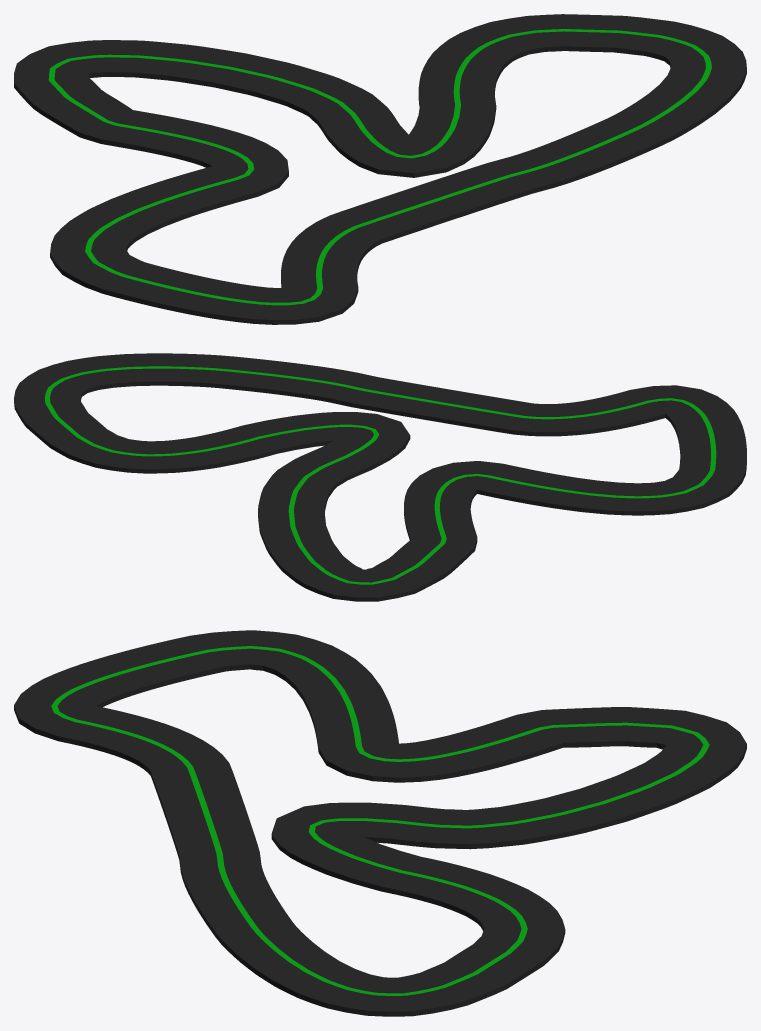
The model's file is Zold_palya_001.dae.
3 renders of one model, top to bottom at view 1: azimuth 30°, elevation 25°; view 2: azimuth 150°, elevation 25°; view 3: azimuth 270°, elevation 25°, orthographic. The views are drawn at different scales.
Visible parts, largest first — view 1: Cube; view 2: Cube; view 3: Cube.
Part boxes in pixels (x1,y1,x2,y2): Cube: (14,14,746,324); Cube: (14,353,746,601); Cube: (14,630,746,1016).
Bounding box in the file's own units: 113 × 91.88 × 0.6982.
